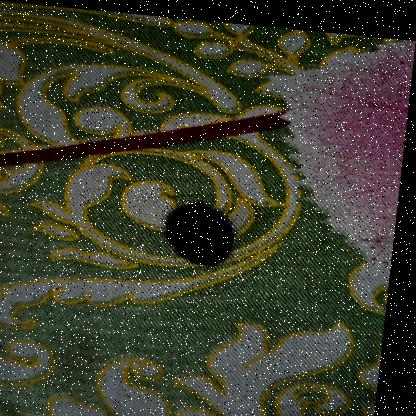spot: (165, 191, 255, 273)
